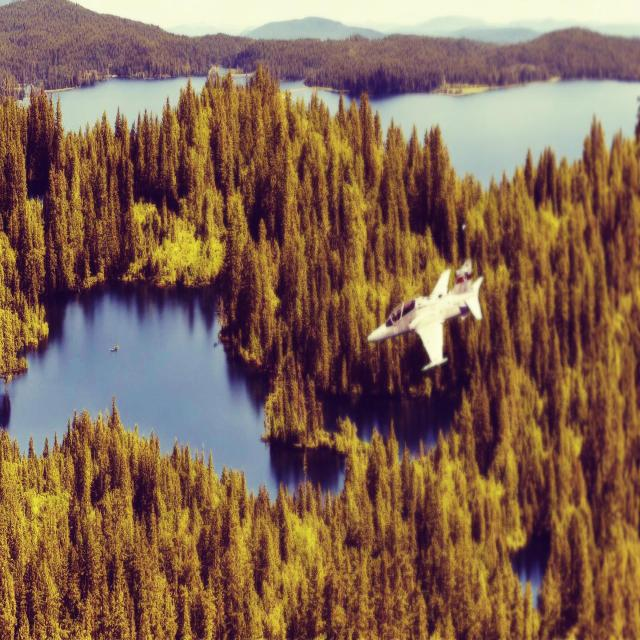airplane: (366, 258, 484, 373)
